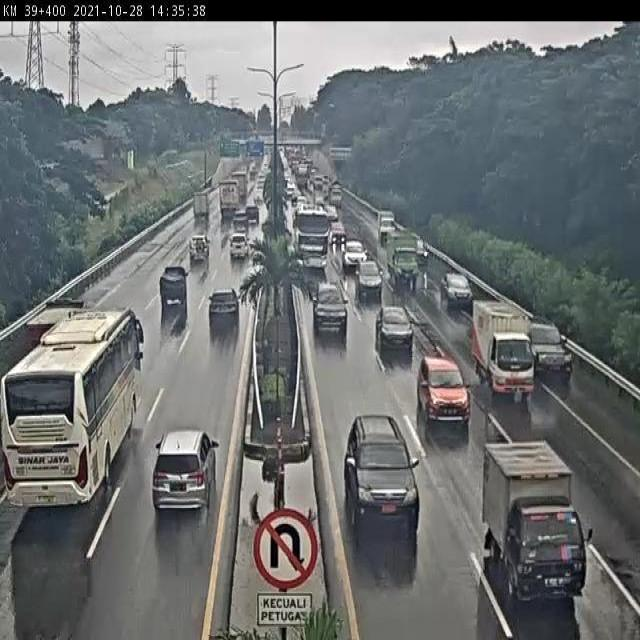big bus: (4, 310, 143, 506), (295, 201, 327, 267)
big truck: (219, 178, 242, 218), (230, 172, 248, 205)
car: (480, 438, 587, 598), (344, 413, 418, 531), (153, 431, 219, 516), (416, 353, 472, 428), (521, 324, 575, 383), (309, 273, 344, 328), (372, 301, 407, 343), (438, 270, 473, 310), (205, 291, 239, 329), (353, 264, 381, 297), (225, 236, 251, 267), (183, 239, 208, 269), (338, 236, 361, 260), (232, 212, 249, 235), (244, 209, 259, 228), (330, 218, 344, 238), (252, 191, 262, 208), (323, 204, 334, 217)
small truck: (471, 297, 537, 399), (26, 295, 84, 341), (386, 233, 418, 288), (158, 266, 189, 310), (373, 209, 393, 240), (192, 192, 210, 220)
